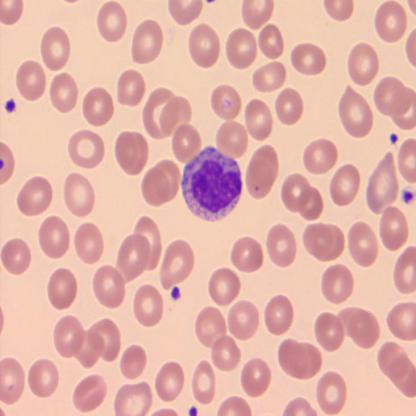Metamyelocyte: (180, 142, 243, 224)
